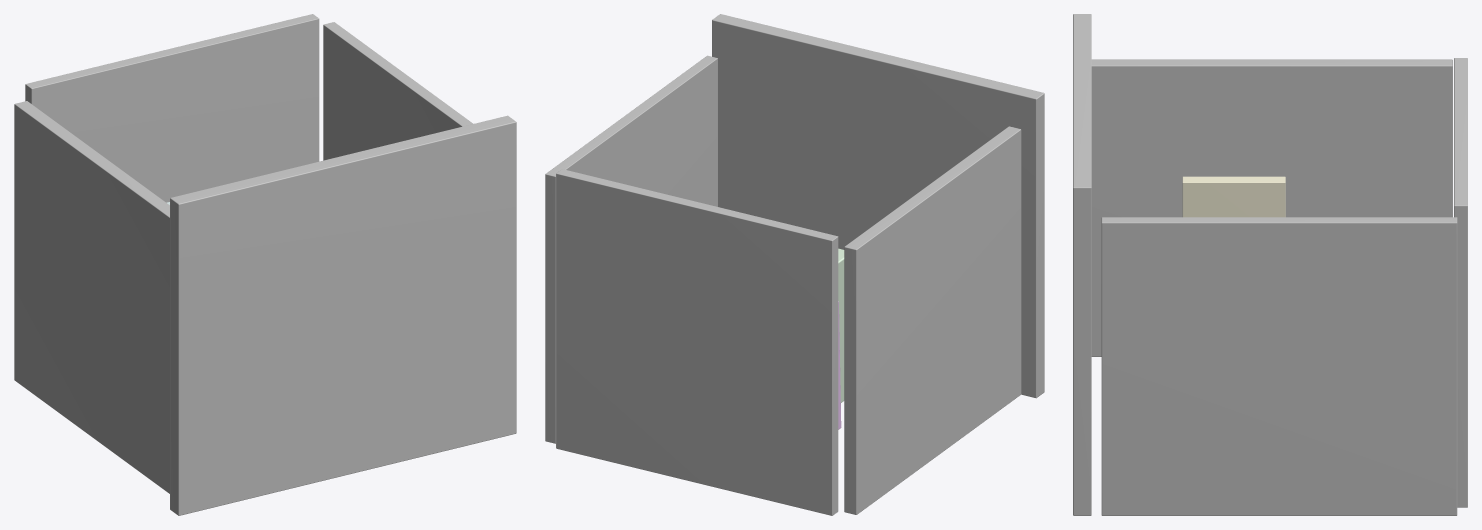
Rendered from vrh-sandbox-001.glb.
3 views of the same model, side by side, from view 1: azimuth 30°, elevation 25°; view 2: azimuth 150°, elevation 25°; view 3: azimuth 270°, elevation 25° (orthographic). The views are drawn at different scales.
Visible parts, largest first — view 1: LODGroup.015, LODGroup.016, LODGroup.014, LODGroup.013; view 2: LODGroup.014, LODGroup.015, LODGroup.016, LODGroup.013, LODGroup.005; view 3: LODGroup.013, LODGroup.016, LODGroup.015, LODGroup.014, LODGroup.012.
Boxes of the visible parts, box(x1,y1,x2,y2) form: LODGroup.015: box(170, 115, 516, 515); LODGroup.016: box(14, 101, 169, 493); LODGroup.014: box(25, 14, 319, 202); LODGroup.013: box(323, 22, 473, 160); LODGroup.014: box(556, 169, 838, 515); LODGroup.015: box(712, 14, 1044, 398); LODGroup.016: box(844, 126, 1021, 514); LODGroup.013: box(545, 55, 717, 443); LODGroup.005: box(838, 248, 844, 402); LODGroup.013: box(1101, 217, 1457, 515); LODGroup.016: box(1091, 59, 1452, 356); LODGroup.015: box(1073, 14, 1091, 515); LODGroup.014: box(1454, 58, 1467, 507); LODGroup.012: box(1182, 176, 1285, 217).
Bounding box in the file's own units: 2.03 × 1.8 × 1.95.
